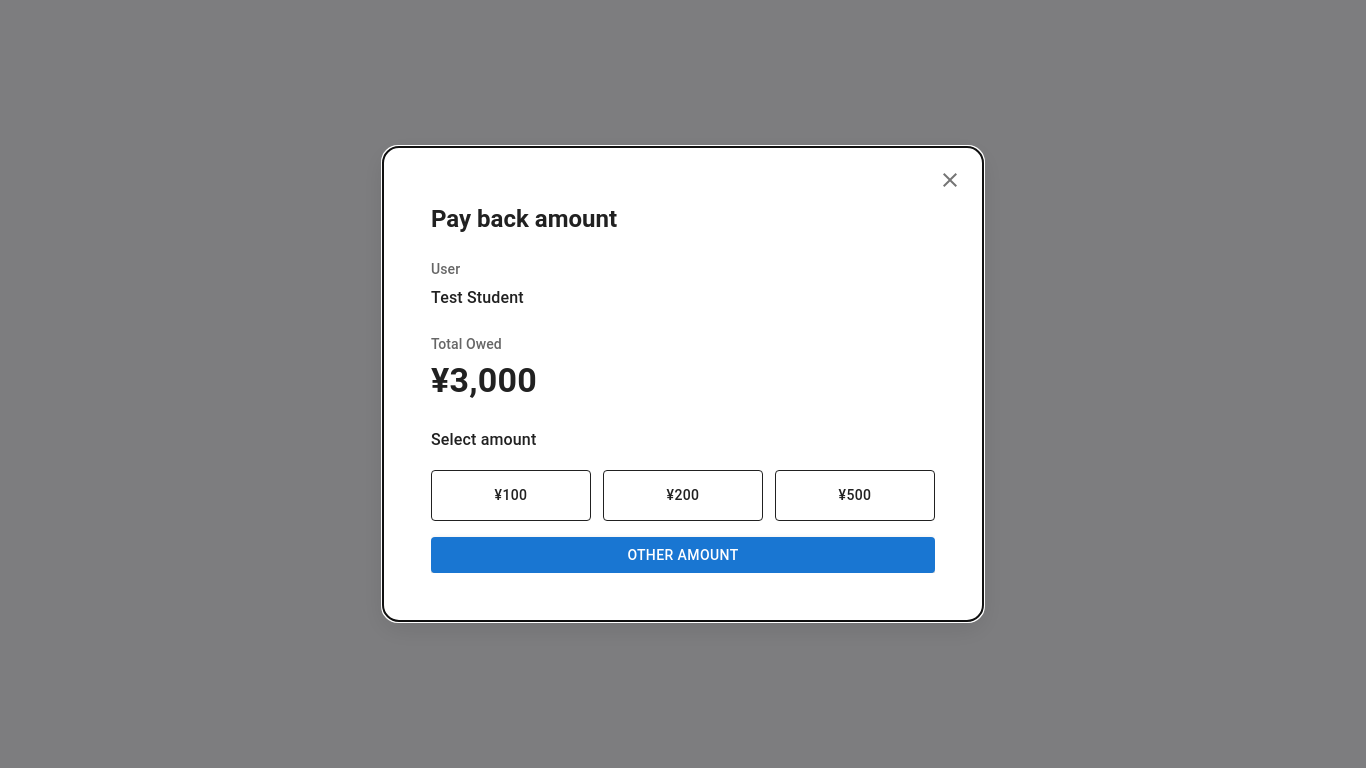
Scenario: PaybackModal › shows success state after pay resolves
Click the button "¥500": (855, 496) [775,470,935,521]
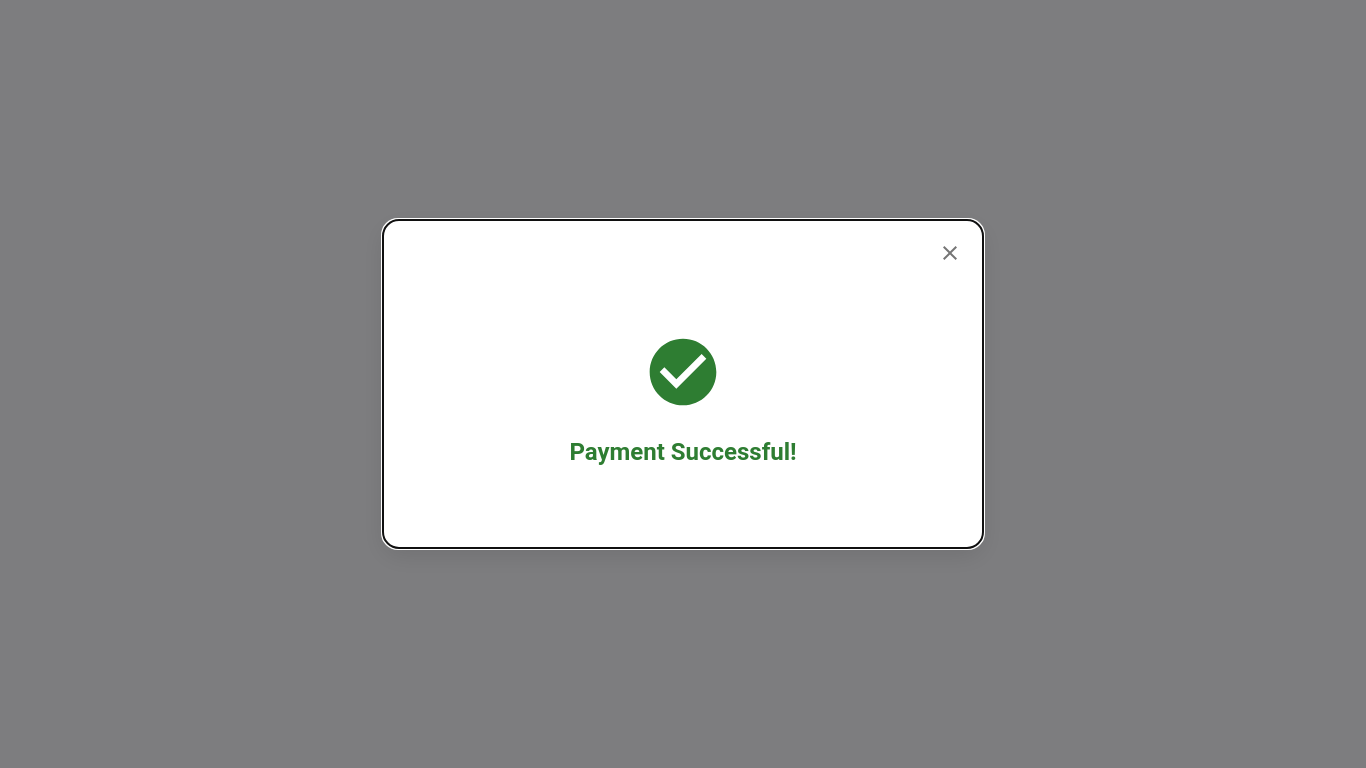
Check: the heading "Payment Successful!" is shown, box [569,436,797,468]
